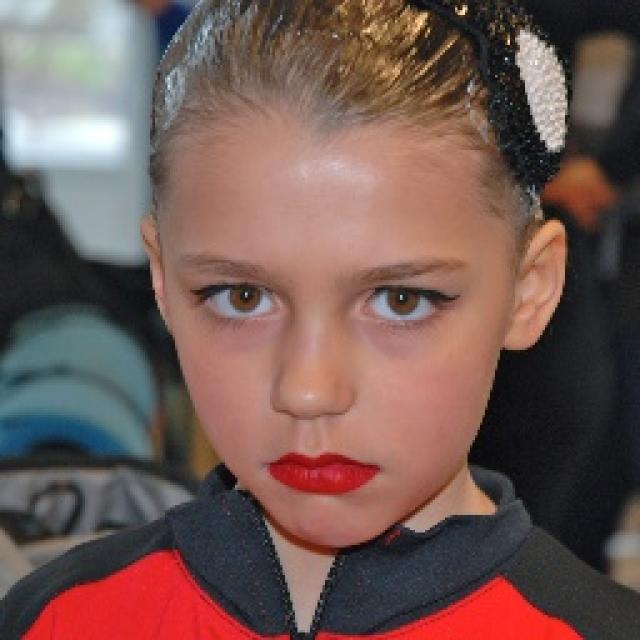earlobe: (498, 320, 544, 353)
eye: (356, 285, 444, 326), (200, 282, 277, 320)
nose: (274, 406, 352, 436)
wholeear: (500, 217, 564, 352), (139, 218, 175, 338)
